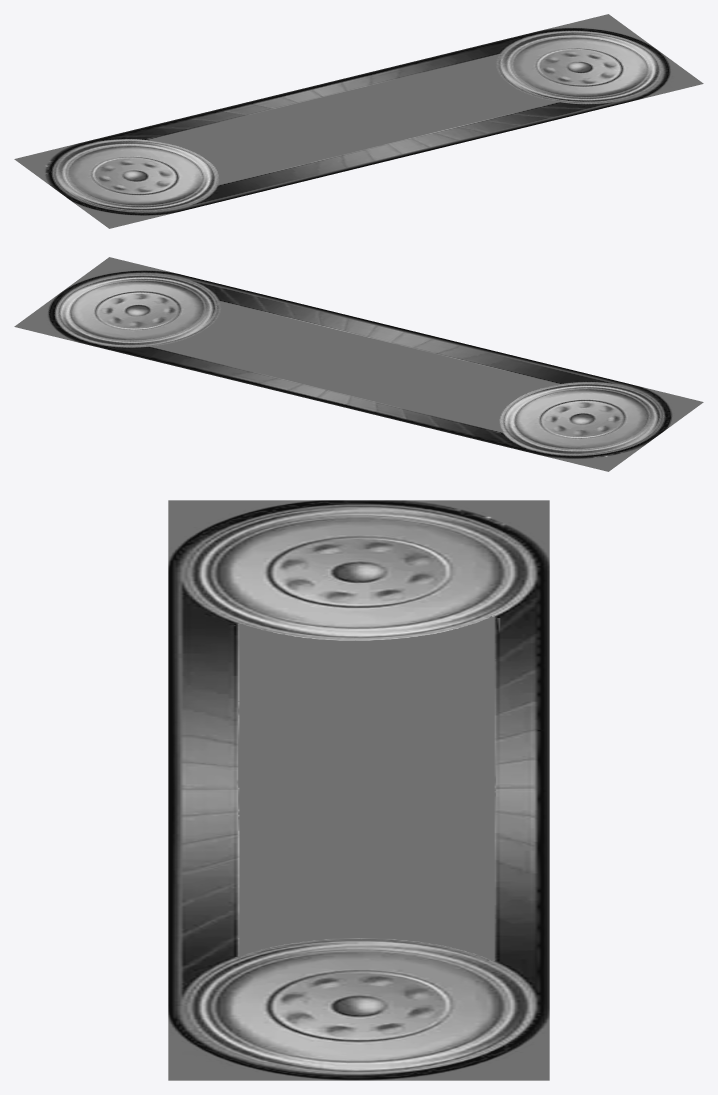
File: conveyor_side.FBX
3 renders of one model, top to bottom at view 1: azimuth 30°, elevation 25°; view 2: azimuth 150°, elevation 25°; view 3: azimuth 270°, elevation 25°, orthographic. The views are drawn at different scales.
Parts seen in each view (by area): view 1: Plane001; view 2: Plane001; view 3: Plane001.
Part boxes in pixels (<box>): Plane001: <box>14,14,703,228</box>; Plane001: <box>14,257,703,471</box>; Plane001: <box>168,500,549,1080</box>.
Bounding box in the file's own units: 146 × 2.48e-15 × 40.48.
Materials: 1 (1 with a texture image).
